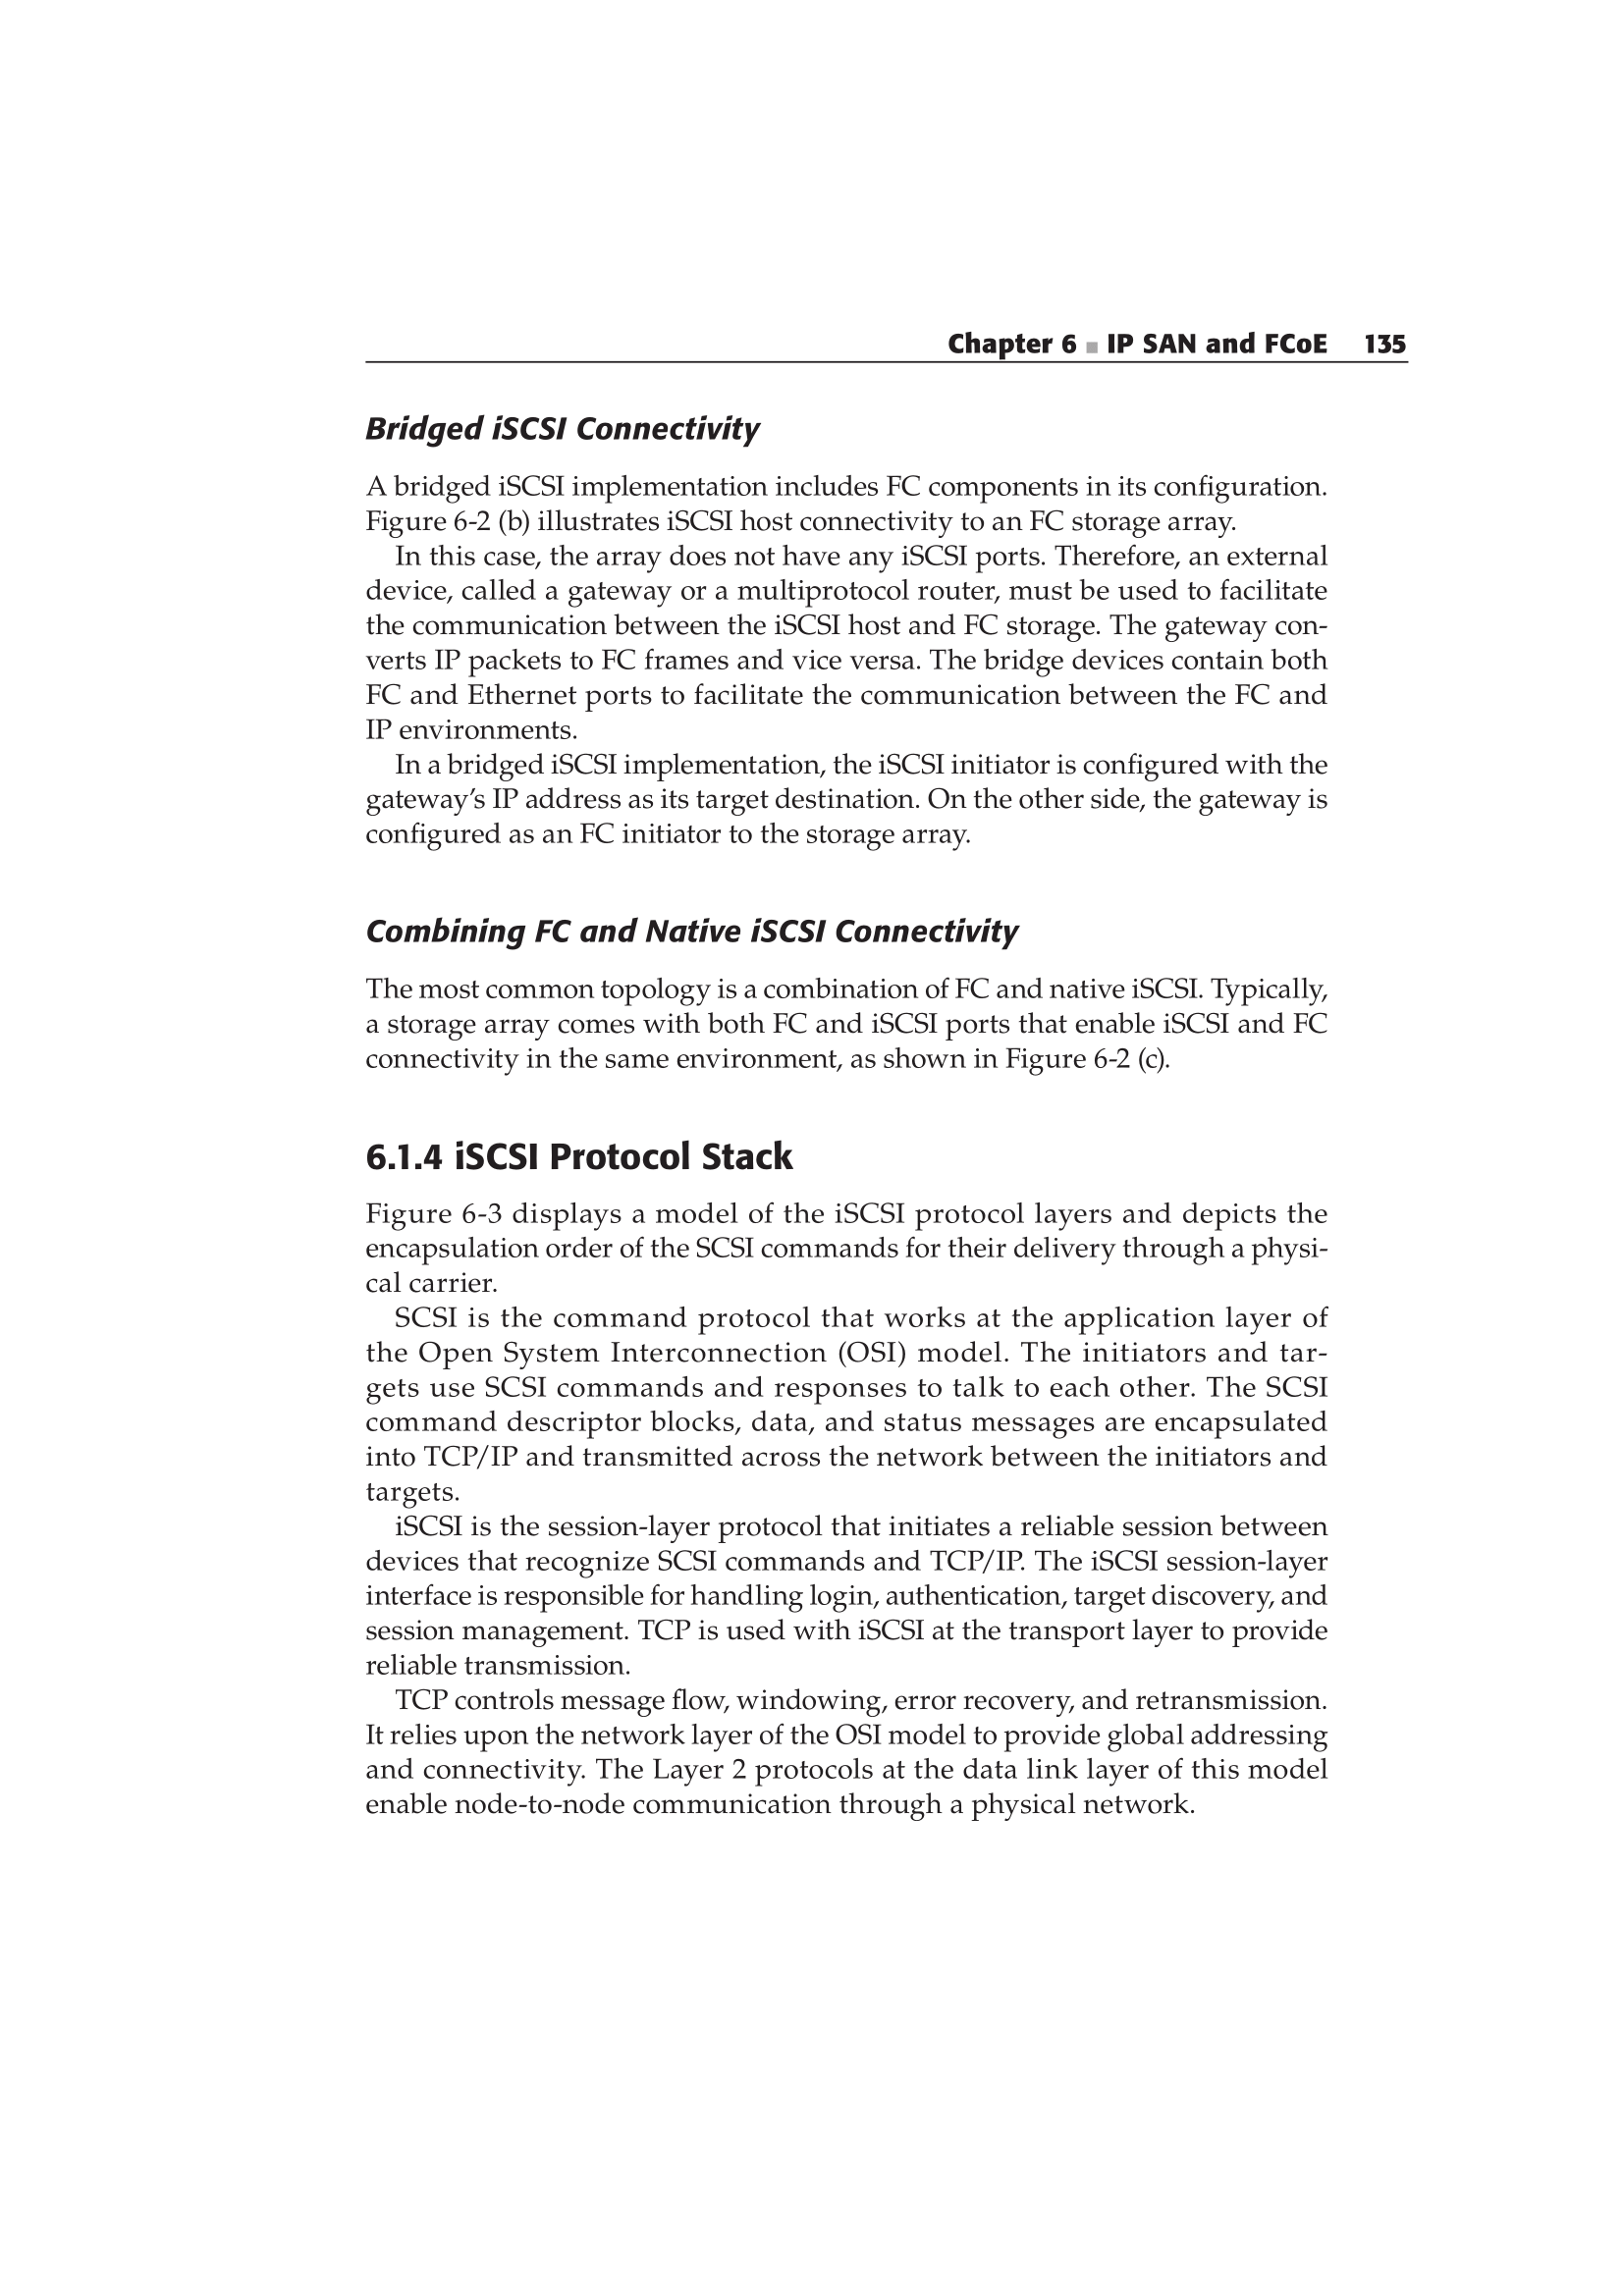Paragraph: (327, 1295, 1395, 1499), (214, 1680, 1403, 1861), (348, 541, 1421, 741), (290, 1504, 1451, 1685), (272, 972, 1395, 1097), (293, 750, 1354, 871), (335, 1199, 1530, 1302), (868, 272, 1533, 414), (293, 469, 1403, 544), (239, 897, 1203, 960), (314, 1127, 980, 1190), (290, 393, 843, 456), (789, 556, 801, 565)
